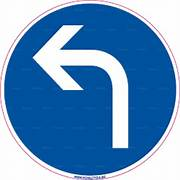left: (1, 1, 178, 179)
